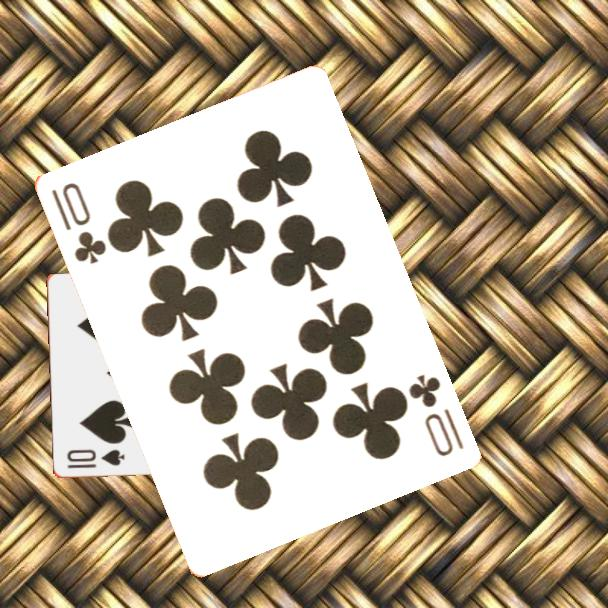c10: (47, 178, 109, 267), (404, 370, 466, 459)
s10: (63, 446, 127, 471)
